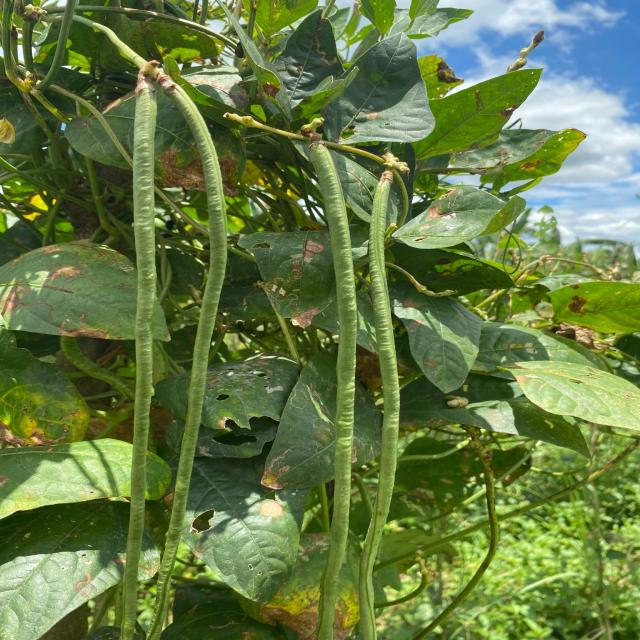10: (148, 72, 227, 640), (311, 143, 357, 640), (120, 75, 156, 640), (359, 171, 400, 640)
leaf-moderate: (202, 353, 301, 429)
sitaw-aphid-high: (182, 458, 309, 602), (0, 499, 129, 640), (0, 240, 137, 340), (321, 33, 434, 143), (389, 282, 483, 393), (0, 439, 132, 517), (504, 361, 640, 432), (272, 11, 344, 107), (145, 452, 171, 500)
sitaw-aphid-low: (0, 329, 90, 447), (262, 354, 336, 489), (239, 231, 335, 328), (352, 383, 382, 465)
